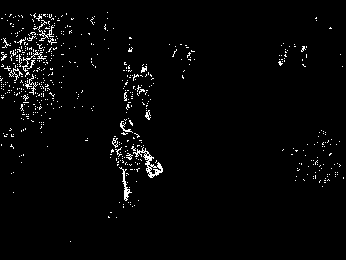person: (107, 116, 164, 203), (131, 62, 156, 121)
